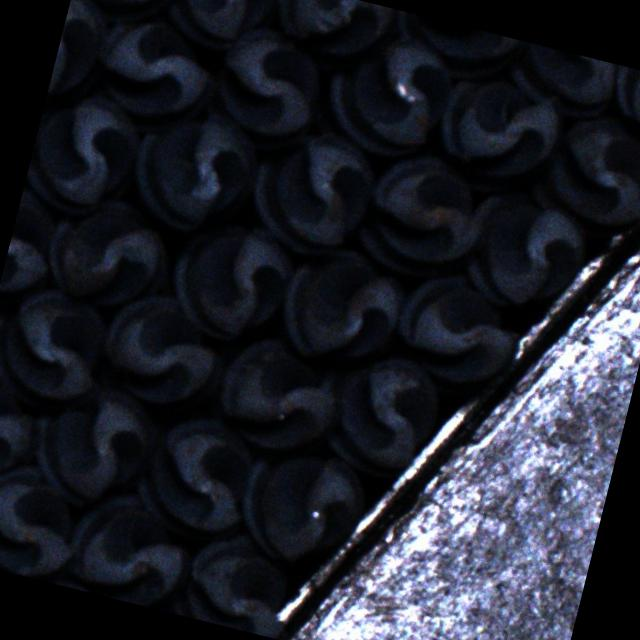tool_b: (350, 142, 502, 294), (119, 94, 269, 245), (20, 368, 169, 520), (241, 117, 384, 265), (160, 207, 304, 351), (319, 24, 463, 168), (90, 286, 237, 426), (384, 260, 526, 404), (125, 404, 266, 548), (452, 180, 594, 321), (271, 236, 412, 378), (85, 5, 227, 144), (38, 186, 183, 322), (228, 436, 370, 574), (200, 16, 333, 160), (20, 78, 148, 227), (428, 67, 567, 203), (58, 482, 200, 614), (318, 342, 447, 487), (210, 328, 348, 460), (0, 274, 120, 420), (170, 520, 302, 640), (524, 99, 640, 233), (0, 450, 88, 585), (382, 9, 528, 89), (262, 0, 399, 83), (504, 40, 624, 124), (44, 0, 120, 116), (0, 184, 67, 299), (159, 0, 284, 59), (0, 365, 45, 496), (598, 64, 640, 160), (68, 0, 185, 30)
